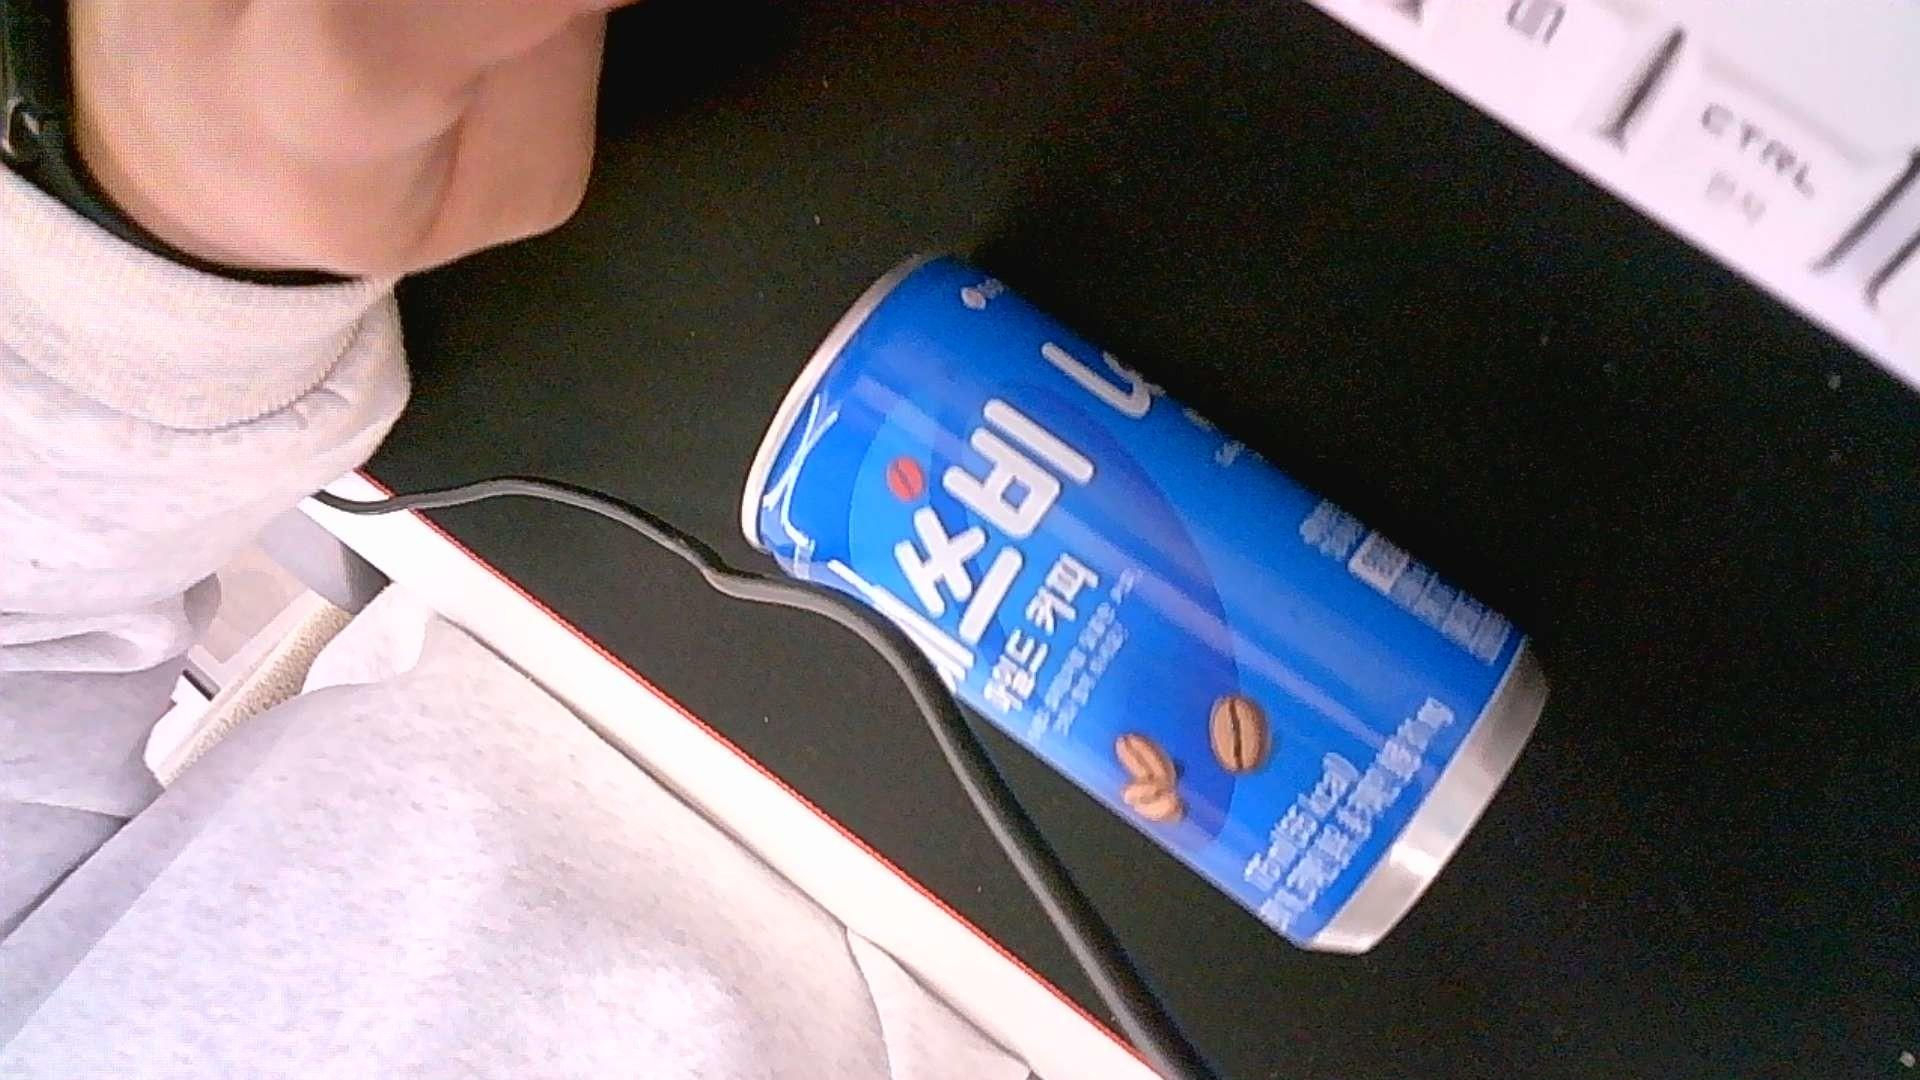letsbe: (741, 249, 1548, 956)
